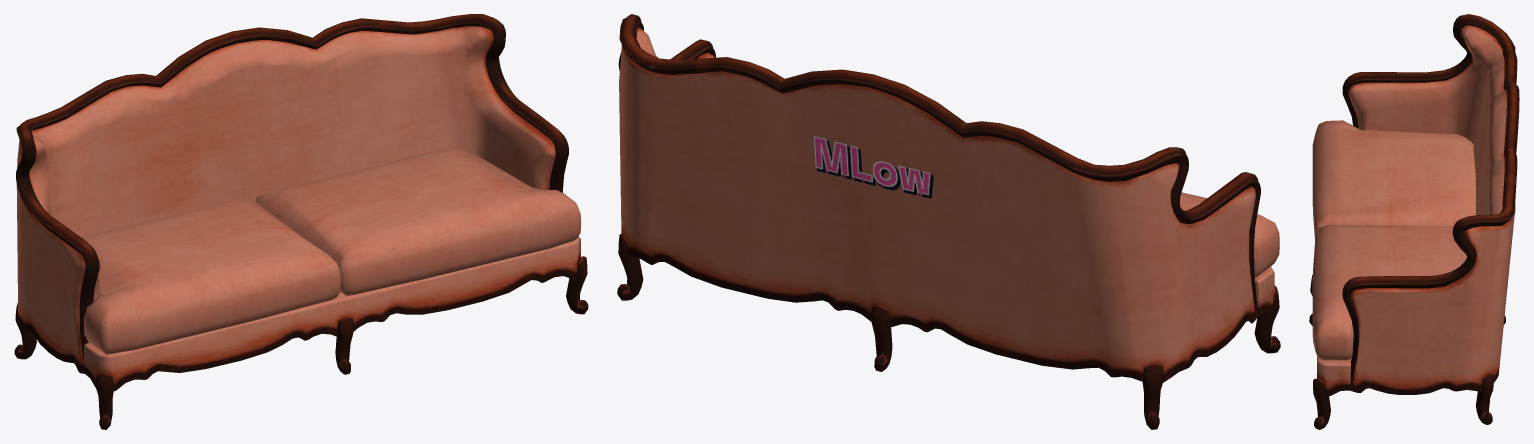
The model's file is nyb_oddcouple_sofa.glb.
3 views of the same model, side by side, from view 1: azimuth 30°, elevation 25°; view 2: azimuth 150°, elevation 25°; view 3: azimuth 270°, elevation 25° (orthographic). The views are drawn at different scales.
Visible parts, largest first — view 1: Sofa_01; view 2: Sofa_01, stk_tag_mlow.png; view 3: Sofa_01.
Part boxes in pixels (left/top/right/bottom): Sofa_01: left=14, top=14, right=588, bottom=429; Sofa_01: left=617, top=14, right=1280, bottom=429; stk_tag_mlow.png: left=813, top=136, right=933, bottom=199; Sofa_01: left=1309, top=14, right=1519, bottom=429.
Bounding box in the file's own units: 1.57 × 0.7965 × 0.658.
Materials: 2 (2 with a texture image).
